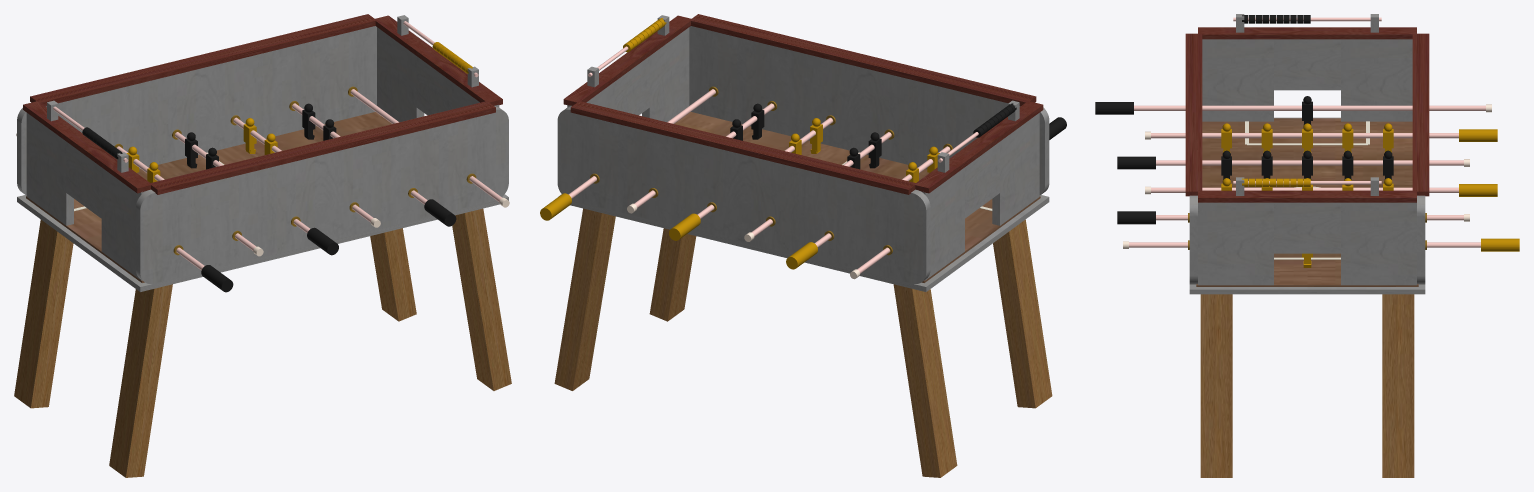
Rendered from Sports_Table_football__0000.glb.
3 views of the same model, side by side, from view 1: azimuth 30°, elevation 25°; view 2: azimuth 150°, elevation 25°; view 3: azimuth 270°, elevation 25° (orthographic). The views are drawn at different scales.
Visible parts, largest first — view 1: cabinet::side_panel_0, cabinet::side_panel_1, cabinet::leg_0, cabinet::leg_1, cabinet::leg_2, cabinet::side_rim_0, cabinet::side_rim_1, cabinet::pitch, cabinet::end_wall_0_post_b, cabinet::cabinet_base, cabinet::end_wall_1_post_b, cabinet::end_wall_0_post_a (+6 smaller); view 2: cabinet::side_panel_1, cabinet::side_panel_0, cabinet::leg_1, cabinet::leg_0, cabinet::leg_3, cabinet::side_rim_1, cabinet::side_rim_0, cabinet::pitch, cabinet::end_wall_0_post_a, cabinet::cabinet_base, cabinet::end_wall_1_post_a, cabinet::end_wall_0_post_b (+5 smaller); view 3: cabinet::pitch, cabinet::end_wall_1_post_a, cabinet::end_wall_1_post_b, cabinet::leg_2, cabinet::leg_3, cabinet::end_wall_0_post_a, cabinet::end_wall_0_post_b, cabinet::end_wall_0_lintel, cabinet::end_wall_1_lintel, cabinet::side_rim_1, cabinet::side_rim_0, cabinet::end_rim_1 (+15 smaller).
Part boxes in pixels (box(x1,y1,x2,y2)): cabinet::side_panel_0: box(136, 106, 508, 283); cabinet::side_panel_1: box(17, 26, 376, 195); cabinet::leg_0: box(109, 284, 172, 477); cabinet::leg_1: box(14, 219, 73, 408); cabinet::leg_2: box(452, 208, 511, 390); cabinet::side_rim_0: box(149, 101, 495, 194); cabinet::side_rim_1: box(30, 14, 375, 106); cabinet::pitch: box(26, 112, 391, 282); cabinet::end_wall_0_post_b: box(26, 113, 73, 225); cabinet::cabinet_base: box(17, 194, 508, 291); cabinet::end_wall_1_post_b: box(377, 27, 424, 122); cabinet::end_wall_0_post_a: box(101, 167, 145, 280); cabinet::side_panel_1: box(557, 106, 930, 283); cabinet::side_panel_0: box(689, 26, 1049, 195); cabinet::leg_1: box(893, 284, 957, 477); cabinet::leg_0: box(993, 219, 1052, 408); cabinet::leg_3: box(554, 208, 615, 390); cabinet::side_rim_1: box(570, 101, 916, 194); cabinet::side_rim_0: box(691, 14, 1036, 106); cabinet::pitch: box(674, 112, 1040, 282); cabinet::end_wall_0_post_a: box(992, 113, 1039, 225); cabinet::cabinet_base: box(558, 194, 1049, 291); cabinet::end_wall_1_post_a: box(642, 27, 689, 122); cabinet::end_wall_0_post_b: box(920, 167, 964, 280); cabinet::pitch: box(1196, 118, 1418, 286); cabinet::end_wall_1_post_a: box(1198, 202, 1273, 285); cabinet::end_wall_1_post_b: box(1341, 202, 1416, 285); cabinet::leg_2: box(1200, 294, 1232, 477); cabinet::leg_3: box(1382, 294, 1414, 477); cabinet::end_wall_0_post_a: box(1202, 39, 1273, 121); cabinet::end_wall_0_post_b: box(1341, 39, 1412, 121); cabinet::end_wall_0_lintel: box(1274, 39, 1340, 90); cabinet::end_wall_1_lintel: box(1274, 202, 1340, 253); cabinet::side_rim_1: box(1412, 33, 1429, 196); cabinet::side_rim_0: box(1185, 33, 1202, 196); cabinet::end_rim_1: box(1198, 190, 1416, 202).
Bounding box in the file's own units: 1.27 × 0.9629 × 1.26.
Materials: 18 (6 with a texture image).
